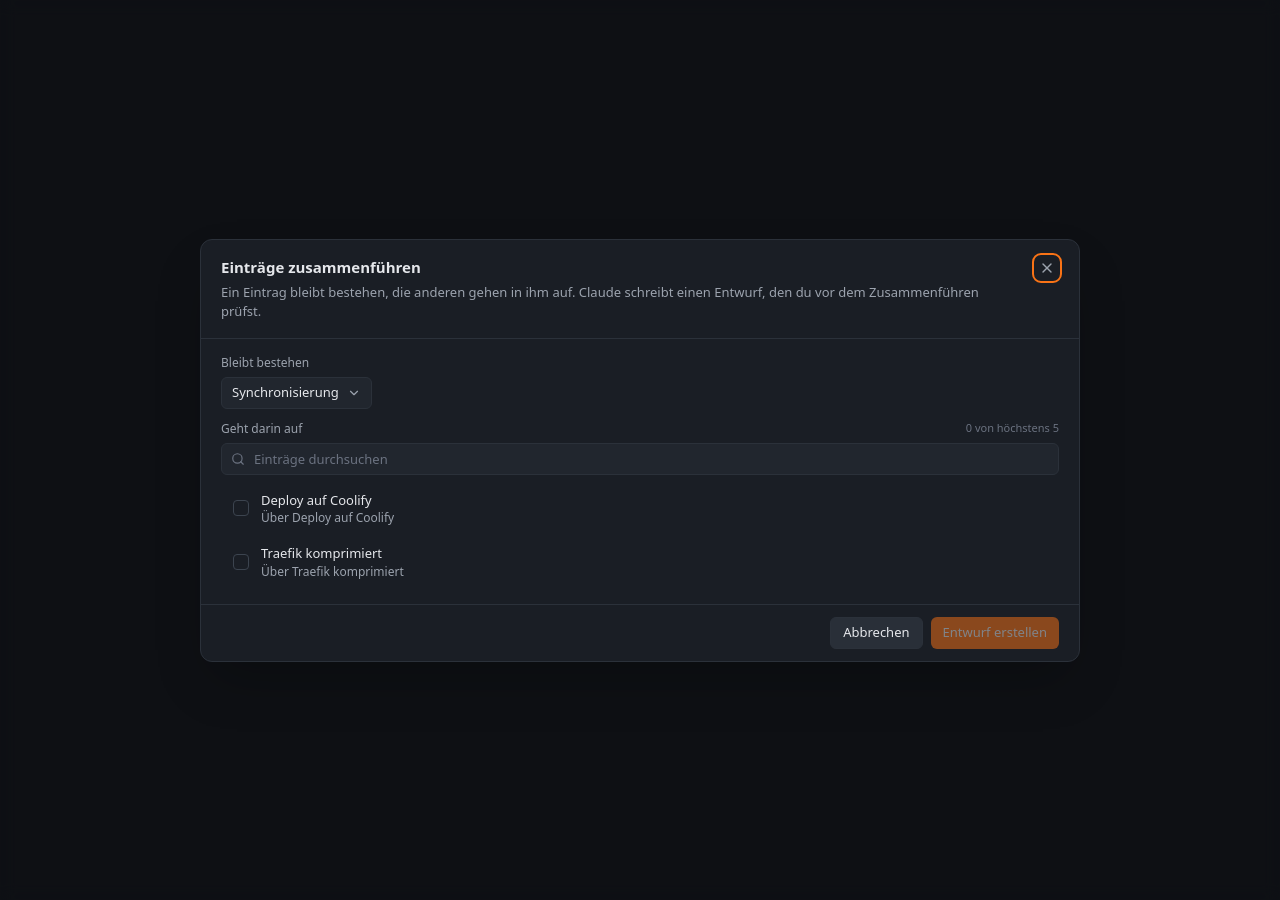
Test: MergeDialog › needs a second entry before Claude drafts anything and offers a retry when the draft fails
The image size is (1280, 900).
Expected: the button "Entwurf erstellen" is disabled, top-left (930, 616), bottom-right (1059, 648)
Click the button "Deploy auf Coolify Über Deploy auf Coolify".
click(316, 499)  # box top-left (221, 482), bottom-right (1059, 534)
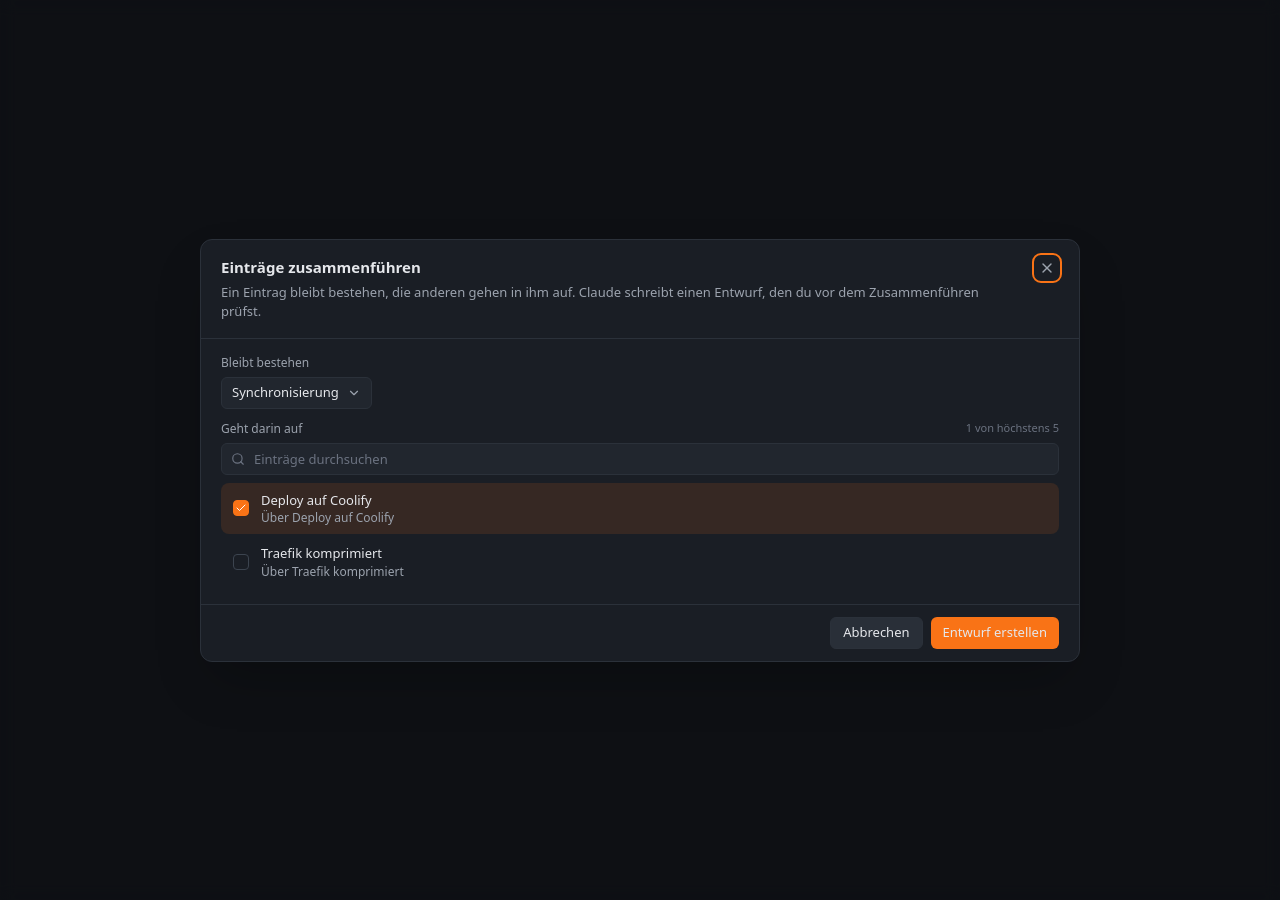
Expected: the button "Entwurf erstellen" is enabled
Click the button "Entwurf erstellen".
click(995, 632)  # box top-left (930, 616), bottom-right (1059, 648)
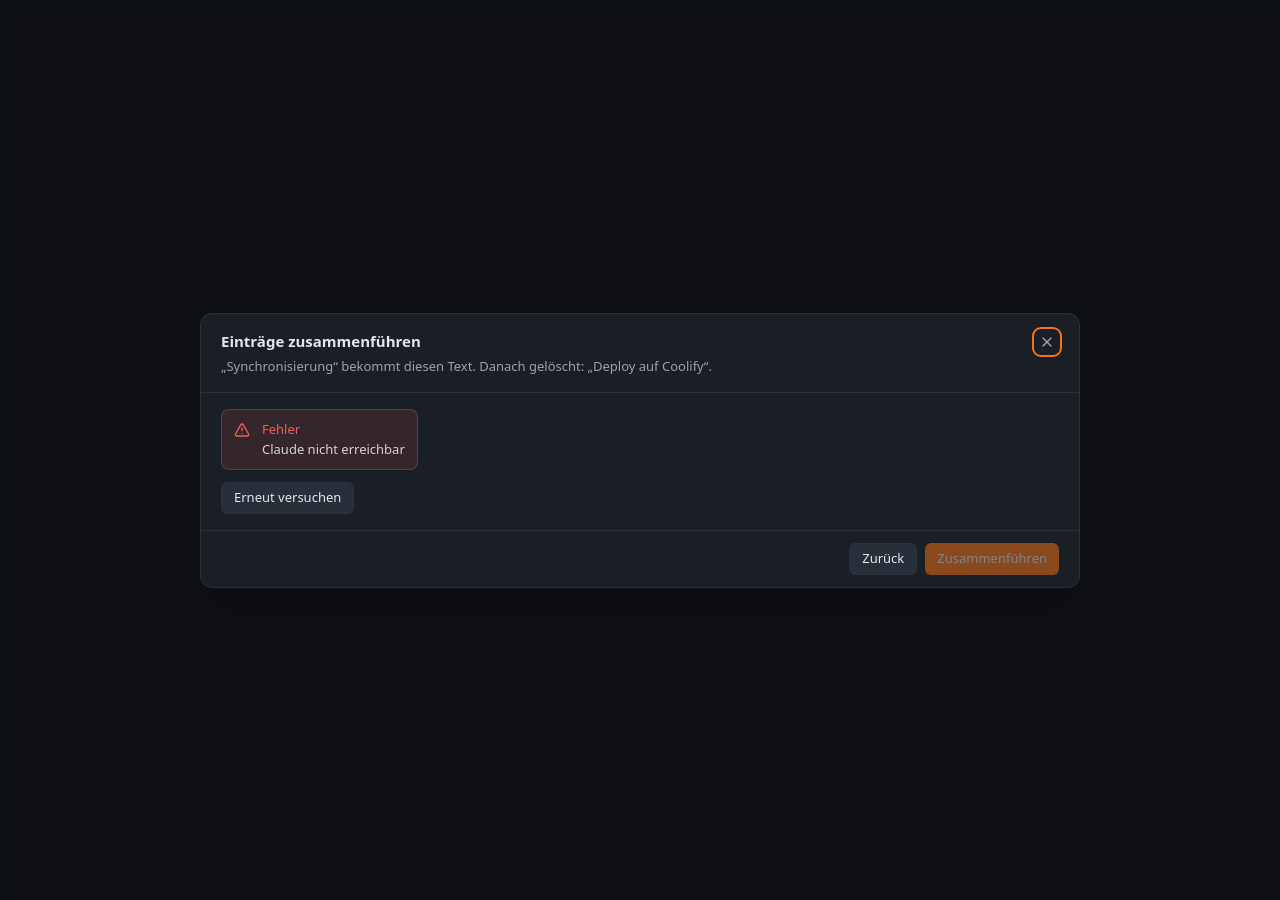
Expected: the text "Claude nicht erreichbar" is shown, top-left (262, 439), bottom-right (405, 458)
Expected: the button "Erneut versuchen" is shown, top-left (221, 482), bottom-right (354, 514)
